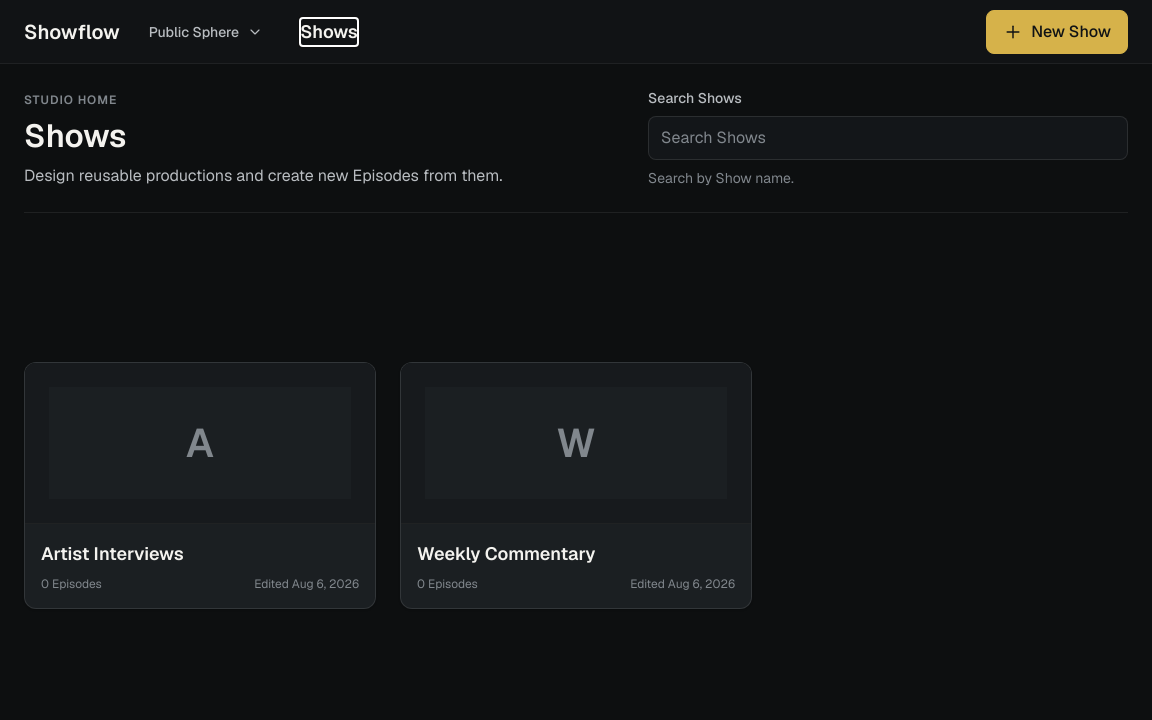
Test case: App › searches Show names only within the current Studio
This screenshot has width=1152, height=720.
Type "INTERVIEW" into the search field labelled "Search Shows" at {"x": 888, "y": 138}, box [648, 116, 1128, 160]
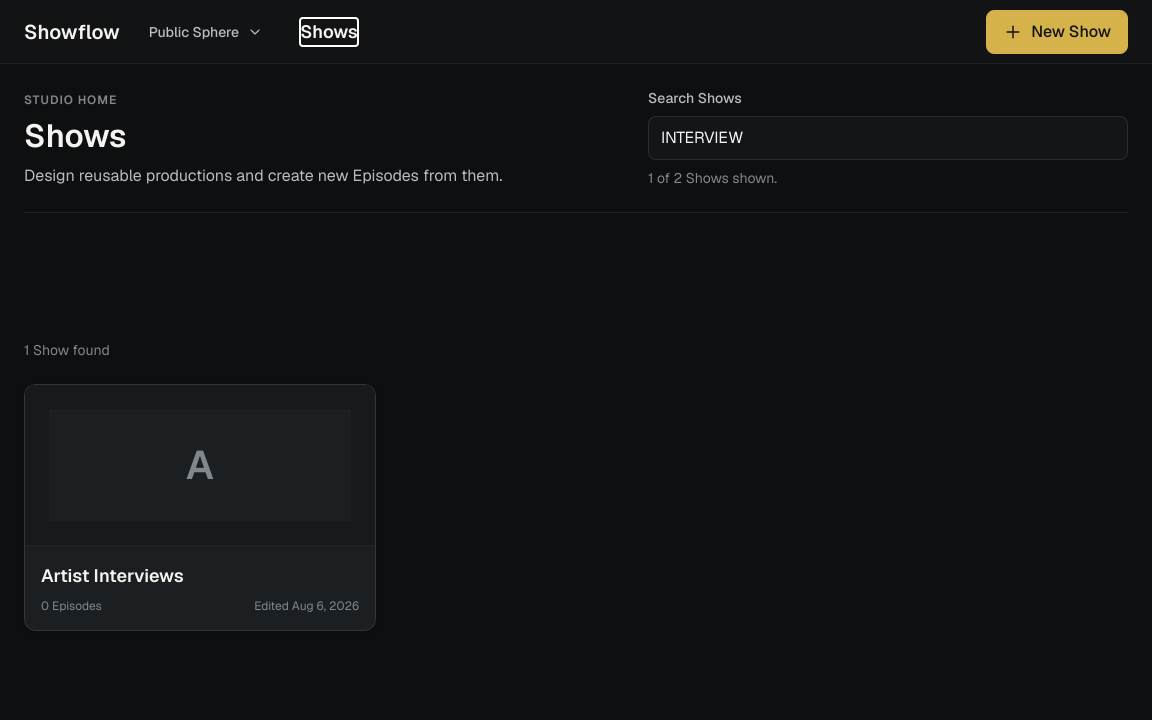
Check: the button "Artist Interviews" is shown, box [41, 562, 184, 590]
Check: the button "Weekly Commentary" is gone
Check: the message reads "1 Show found", box [24, 340, 110, 358]
Replace the text in the search field labelled "Search Shows" with "missing" at {"x": 888, "y": 138}, box [648, 116, 1128, 160]
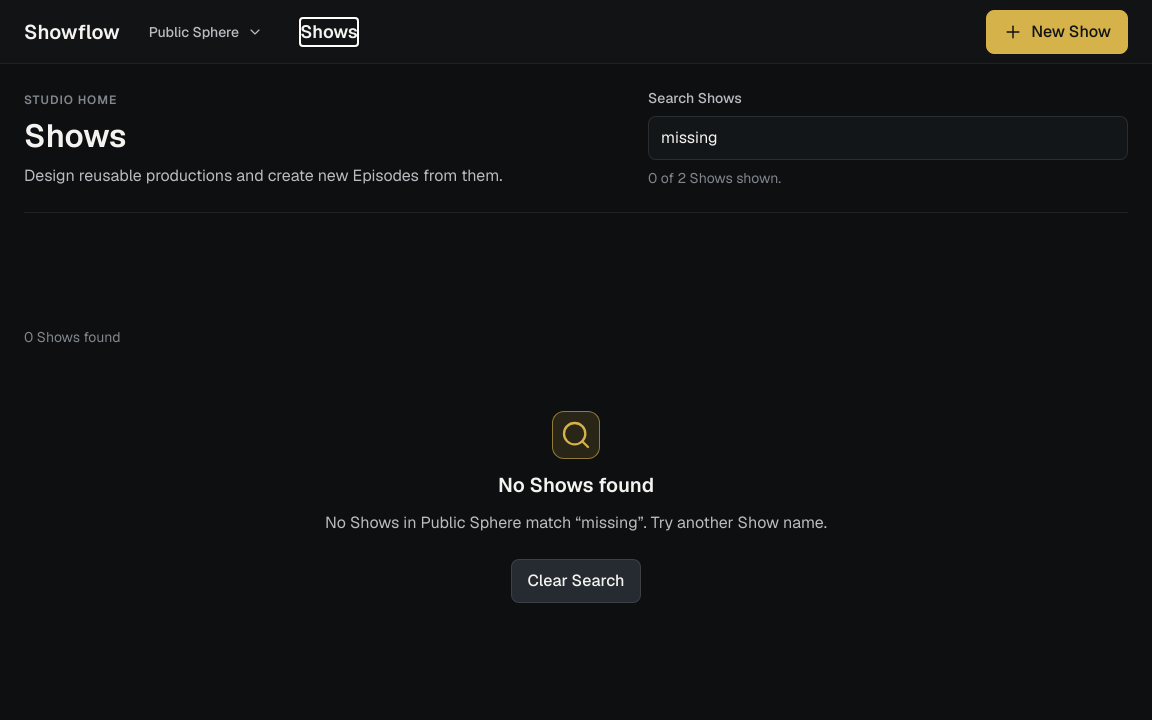
Check: the message reads "0 Shows found", box [24, 328, 121, 346]
Check: the heading "No Shows found" is shown, box [498, 471, 654, 499]
Check: the text "No Shows in Public Sphere match" is shown, box [325, 512, 827, 533]
Click the button "Clear Search" at {"x": 576, "y": 581}, box [510, 559, 641, 603]
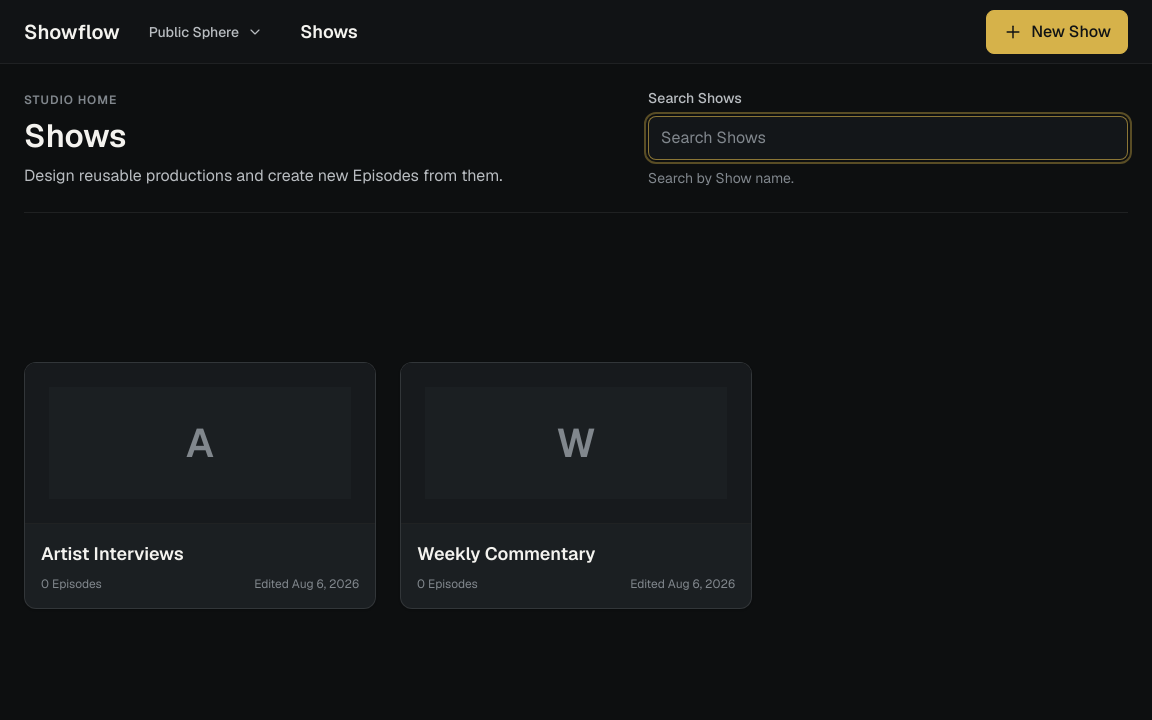
Check: the button "Artist Interviews" is shown, box [41, 540, 184, 568]
Check: the button "Weekly Commentary" is shown, box [417, 540, 596, 568]
